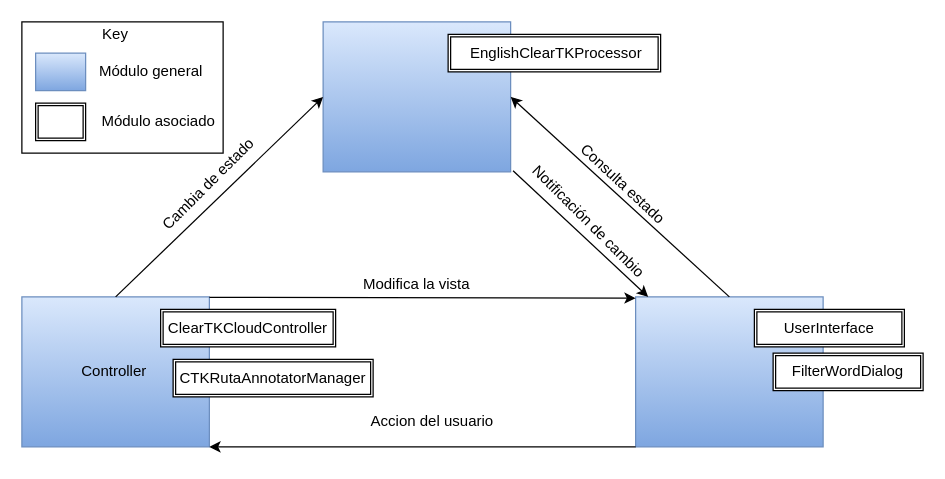
The diagram is 945 pixels wide and 479 high, and some of its shapes have lost their labels. The centre of each missing label's shape, as x and y in pixels:
"Model" goes at (x=416, y=96).
"View" goes at (x=728, y=371).
